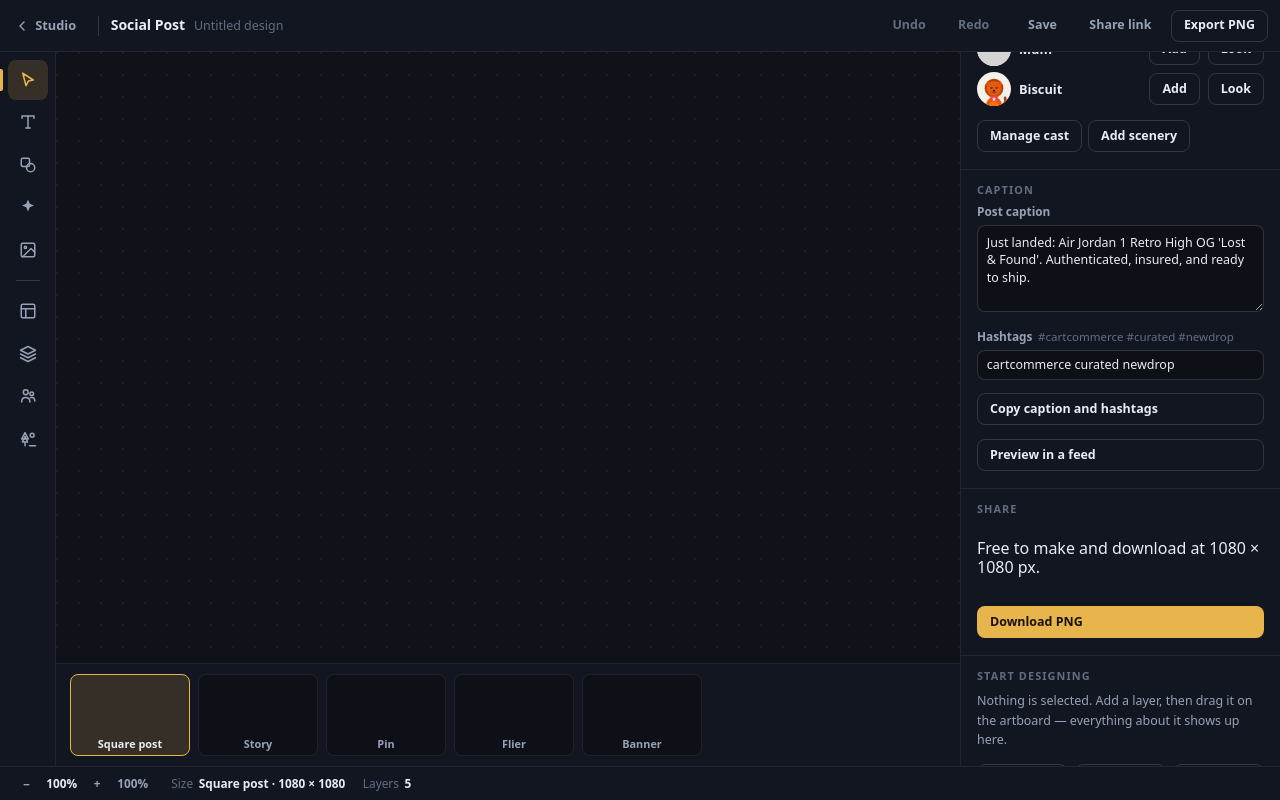
Test: social post designer › offers the text to copy by hand when the clipboard is blocked
The image size is (1280, 800).
(page scrolled)
What coordinates should you click on to do the following:
click the button "Copy caption and hashtags"
I would click on:
 (1120, 409)
Its box is [977,393,1264,425].
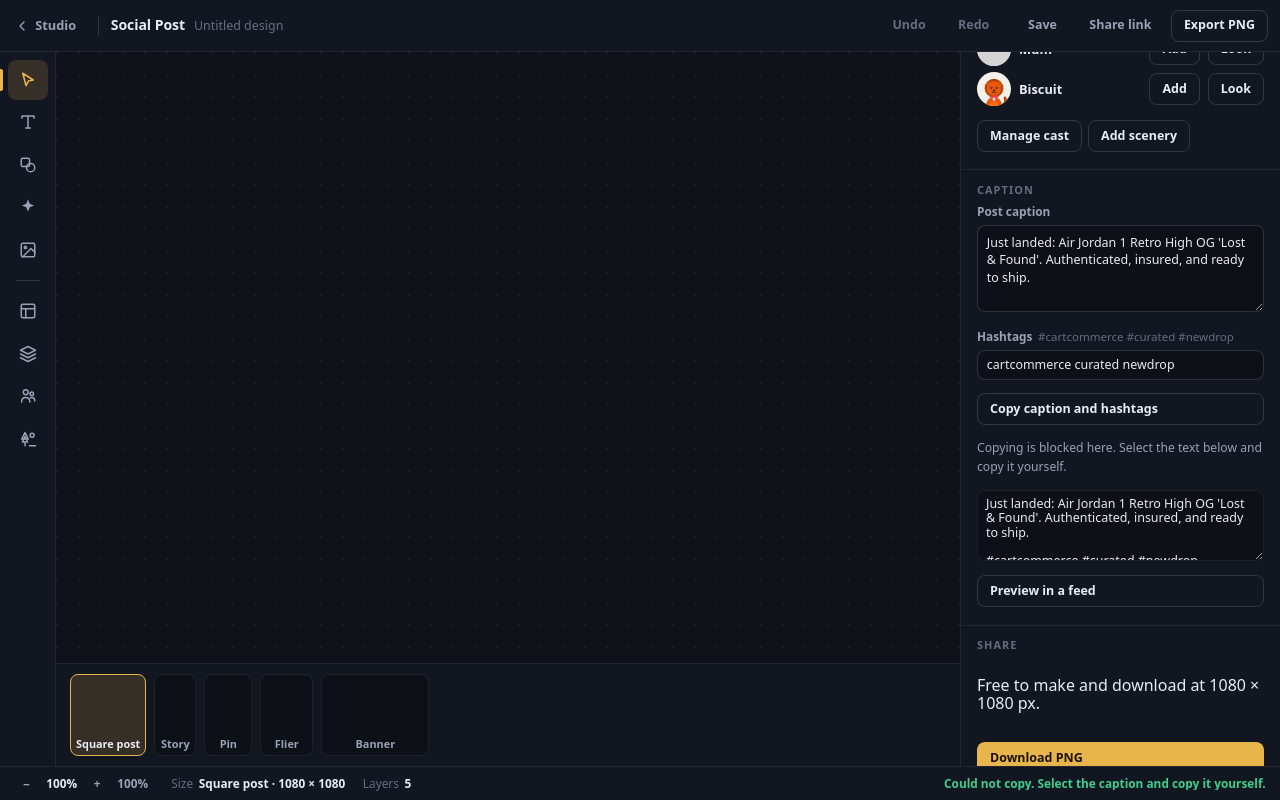
expect the text box named "Caption and hashtags to copy" is shown: met, box [977,490,1264,561]
